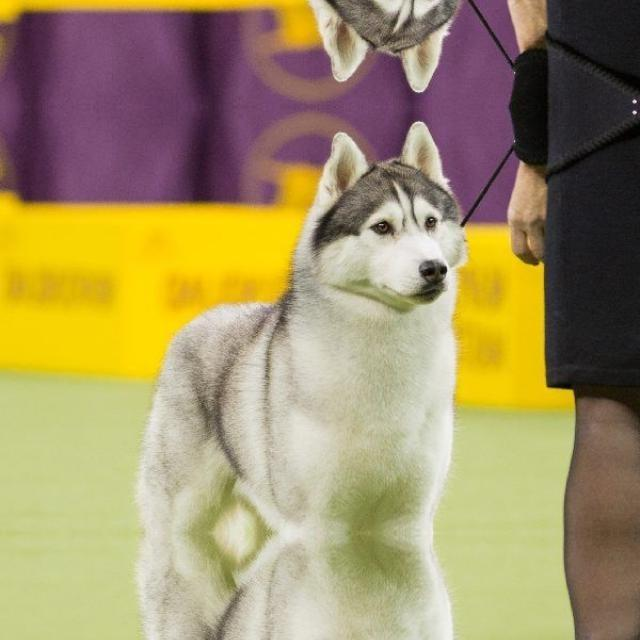dog: (104, 113, 470, 533), (105, 533, 470, 640), (105, 0, 470, 99)
